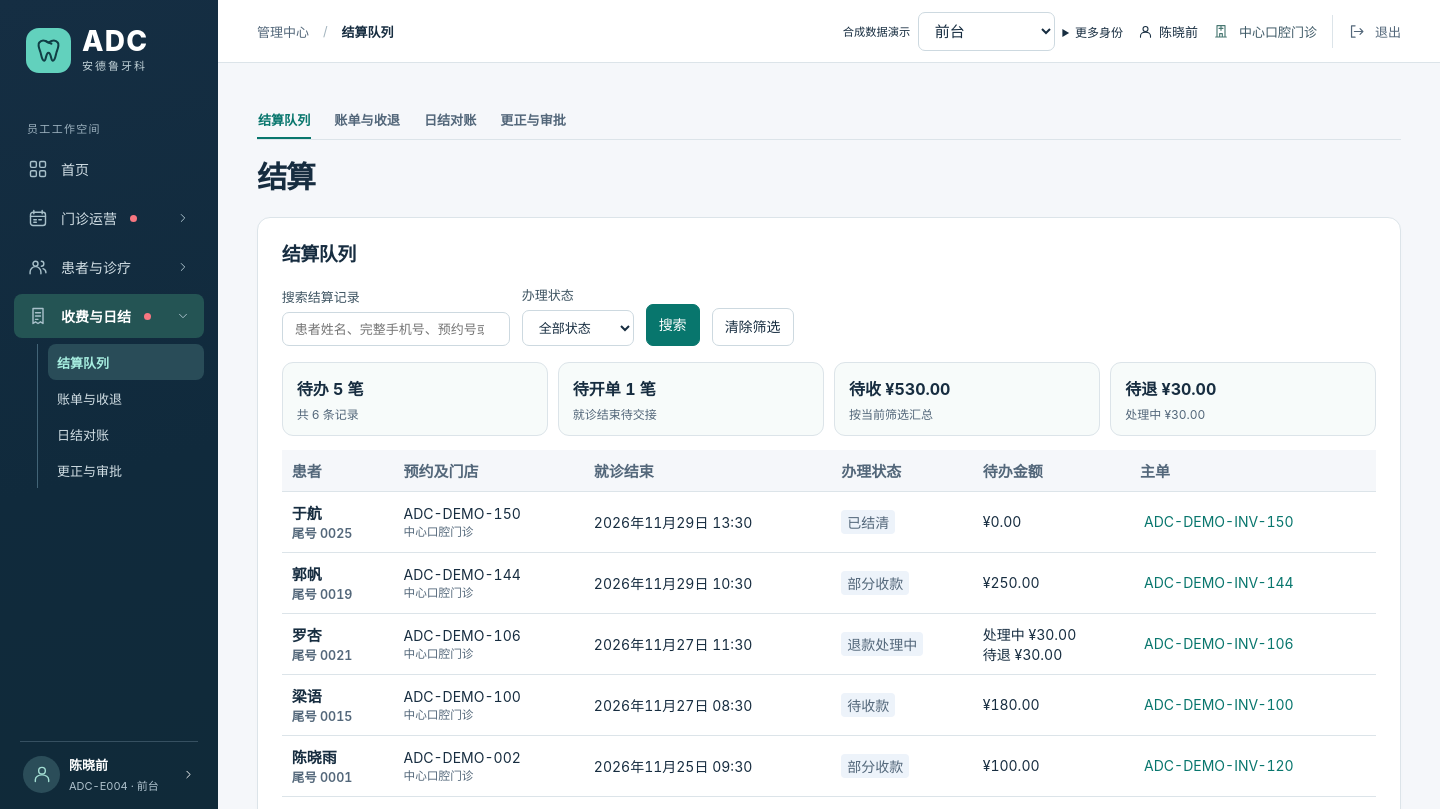
Test: formal billing search opens the selected sample invoice
Type "ADC-DEMO-002" into the search field labelled "搜索结算记录".
click(396, 328); type("ADC-DEMO-002")  # box [282, 312, 510, 346]
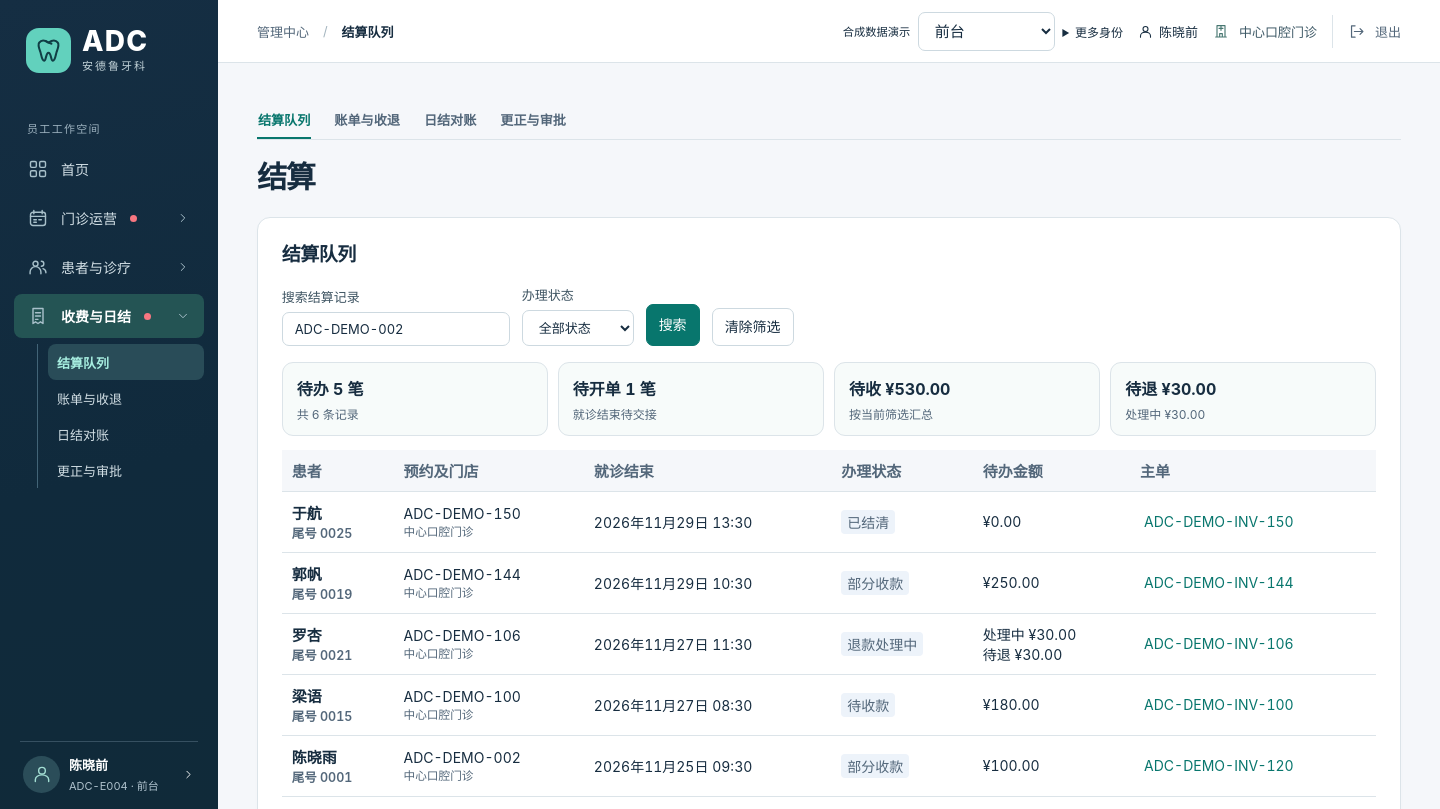
Select "部分收款" in the dropdown labelled "办理状态" at [578, 328], box [522, 310, 634, 346]
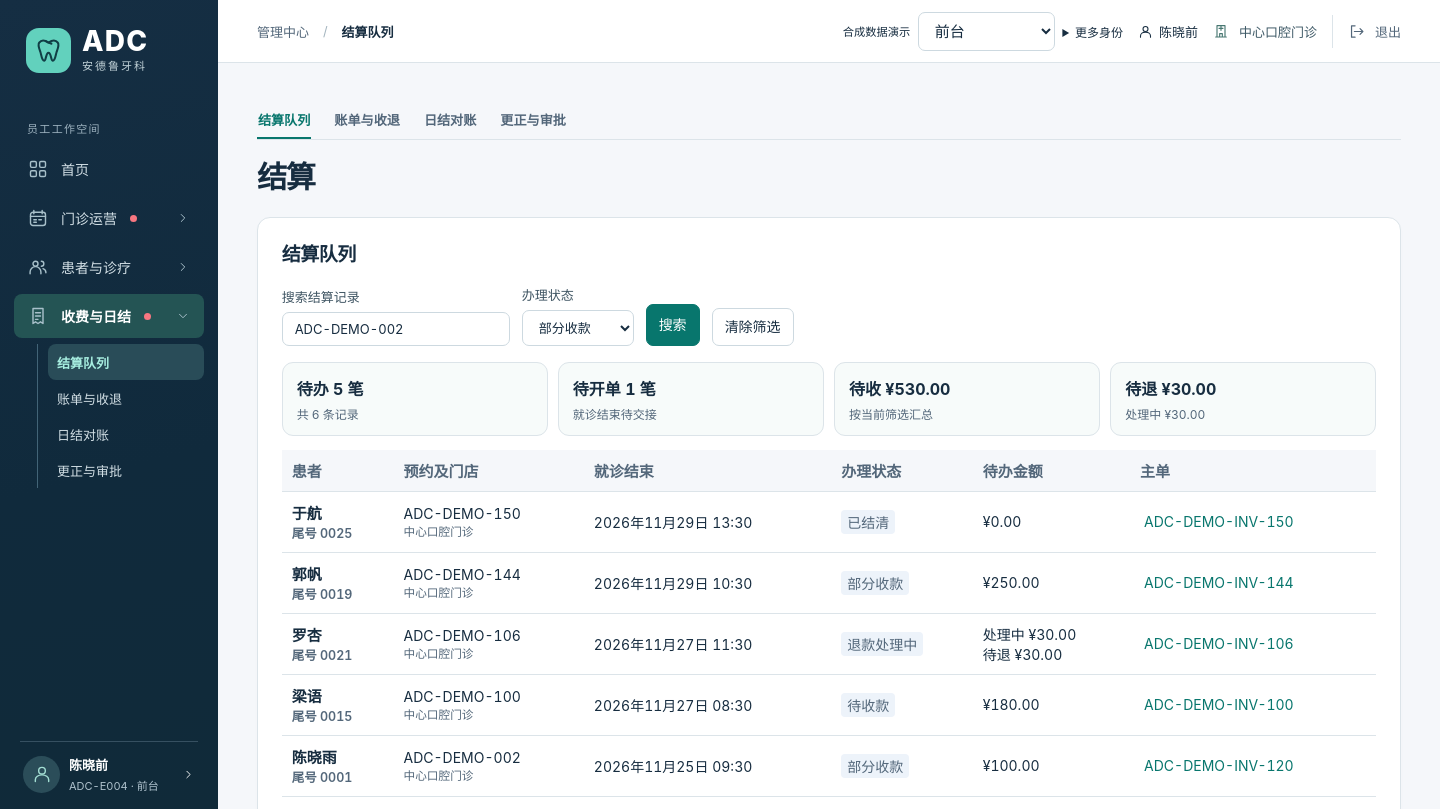
Click the button "搜索".
click(673, 324)  # box [646, 304, 700, 346]
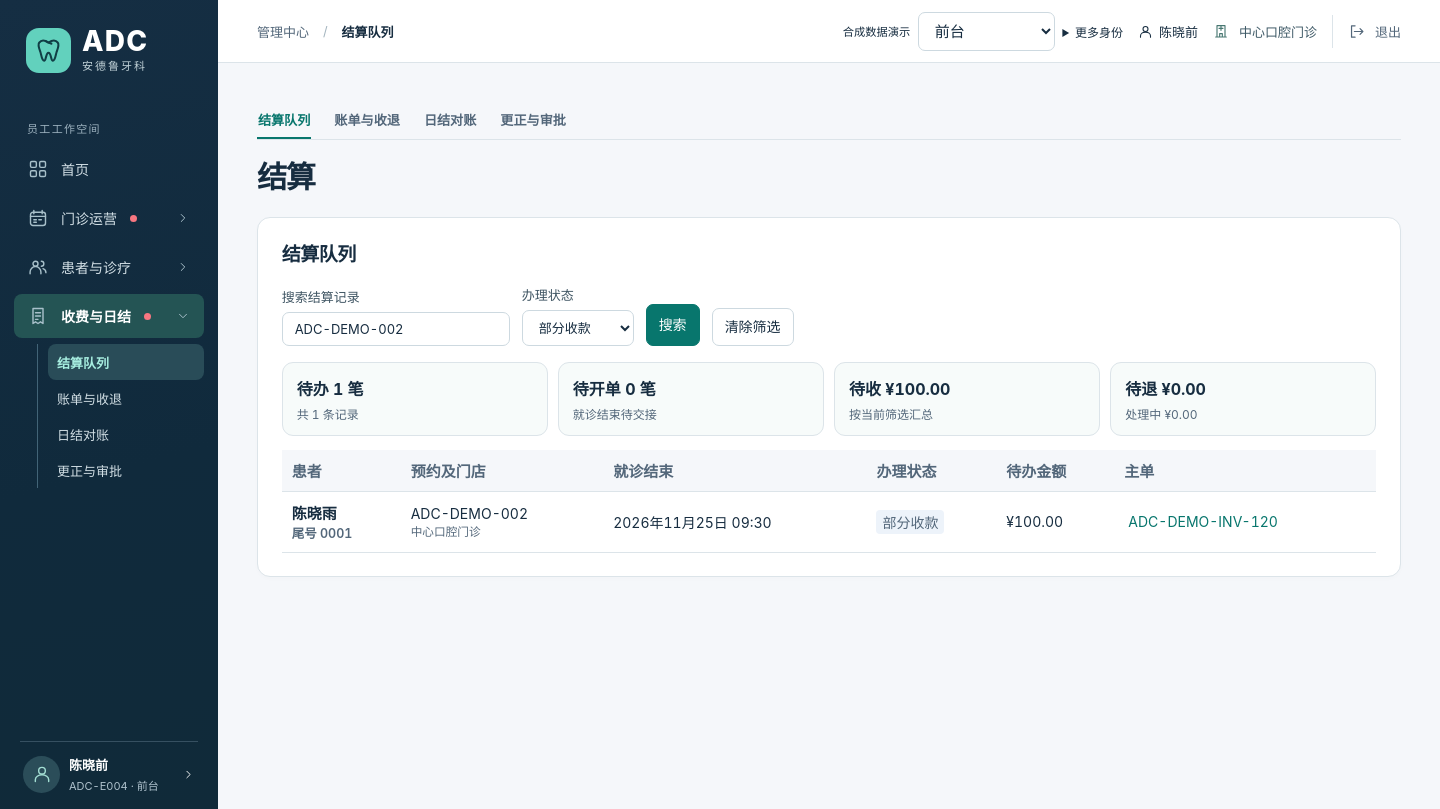
Click the button with aria-label "查看 ADC-DEMO-INV-120".
click(1203, 522)  # box [1124, 509, 1282, 534]
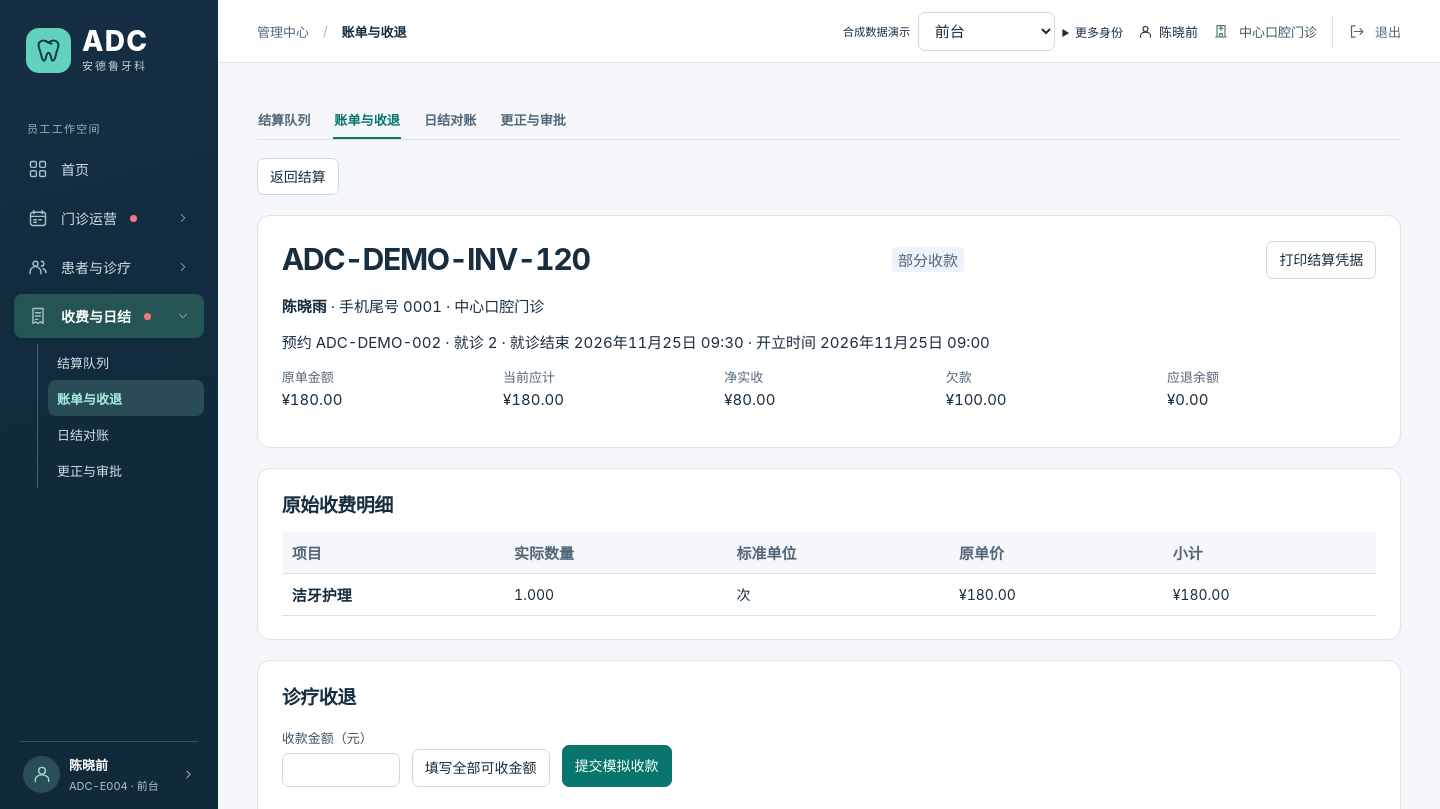
Expected: the text "ADC-DEMO-001" is not shown
Expected: the heading "ADC-DEMO-INV-120" is shown, [282, 240, 590, 280]
